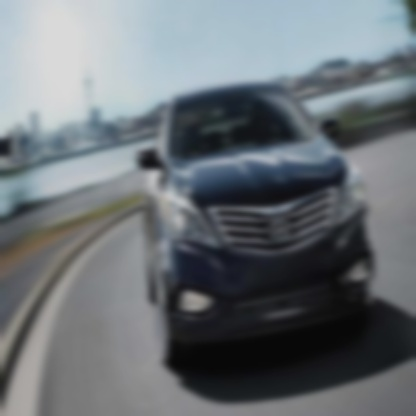Vehicle: (135, 74, 376, 376)
